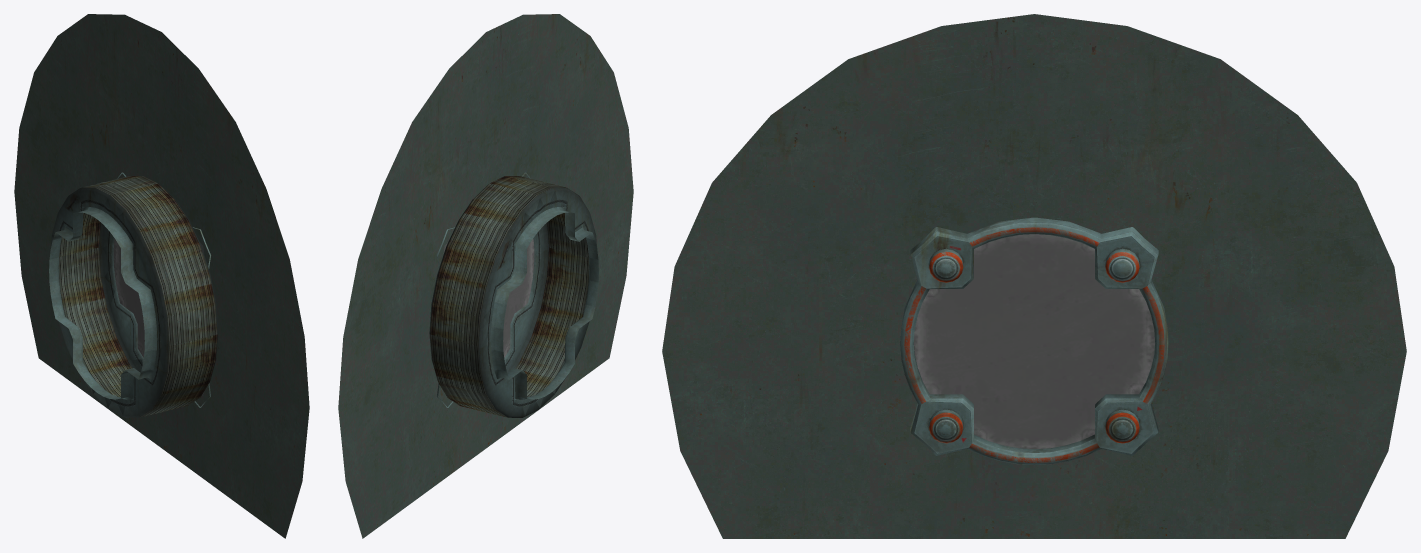
Rendered from tau_tunnel_wall_window.dae.
3 renders of one model, left to right at view 1: azimuth 30°, elevation 25°; view 2: azimuth 150°, elevation 25°; view 3: azimuth 270°, elevation 25°, orthographic. The views are drawn at different scales.
Visible parts, largest first — view 1: polySurface457, polySurface8, pPlane1; view 2: polySurface457, polySurface8, pPlane1; view 3: polySurface457, pPlane1, polySurface8.
Boxes of the visible parts, bbox=[...] form: polySurface457: bbox=[14, 14, 309, 538]; polySurface8: bbox=[49, 172, 218, 417]; pPlane1: bbox=[113, 238, 204, 395]; polySurface457: bbox=[338, 14, 633, 538]; polySurface8: bbox=[429, 172, 598, 417]; pPlane1: bbox=[443, 239, 534, 357]; polySurface457: bbox=[662, 14, 1406, 538]; pPlane1: bbox=[914, 234, 1154, 448]; polySurface8: bbox=[900, 217, 1168, 465].
Size of the model in its own units: 0.7217 by 3.54 by 4.55.
